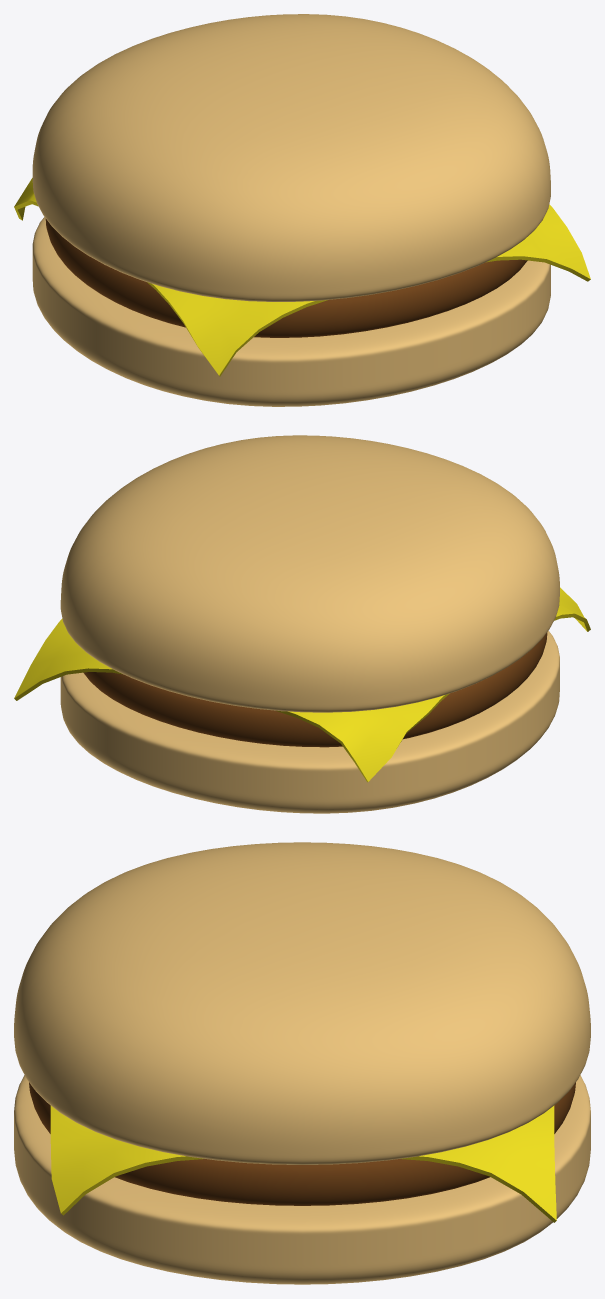
Rendered from hamburger.glb.
The picture shows the model from 3 angles, top to bottom: view 1: azimuth 30°, elevation 25°; view 2: azimuth 150°, elevation 25°; view 3: azimuth 270°, elevation 25°; orthographic projection. The views are drawn at different scales.
Parts seen in each view (by area): view 1: Cube.002, Cube, Cube.001, Plane; view 2: Cube.002, Cube, Cube.001, Plane; view 3: Cube.002, Cube, Cube.001, Plane.
Part boxes in pixels (box(x1,y1,x2,y2)): Cube.002: box(32, 14, 550, 301); Cube: box(32, 217, 550, 406); Cube.001: box(45, 218, 527, 337); Plane: box(14, 178, 590, 376); Cube.002: box(60, 435, 559, 712); Cube: box(60, 631, 559, 813); Cube.001: box(83, 632, 547, 747); Plane: box(14, 587, 590, 782); Cube.002: box(14, 842, 590, 1164); Cube: box(14, 1075, 590, 1284); Cube.001: box(29, 1082, 575, 1205); Plane: box(50, 1105, 556, 1222).
Size of the model in its own units: 9.17 by 4.94 by 9.17.
